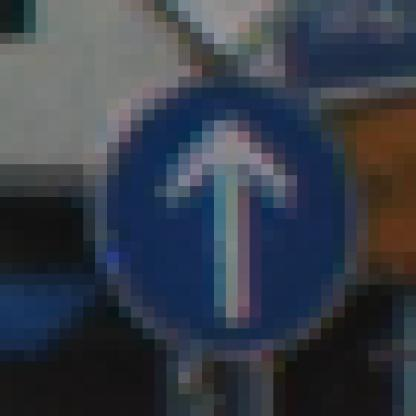AheadOnly: (72, 56, 358, 351)
